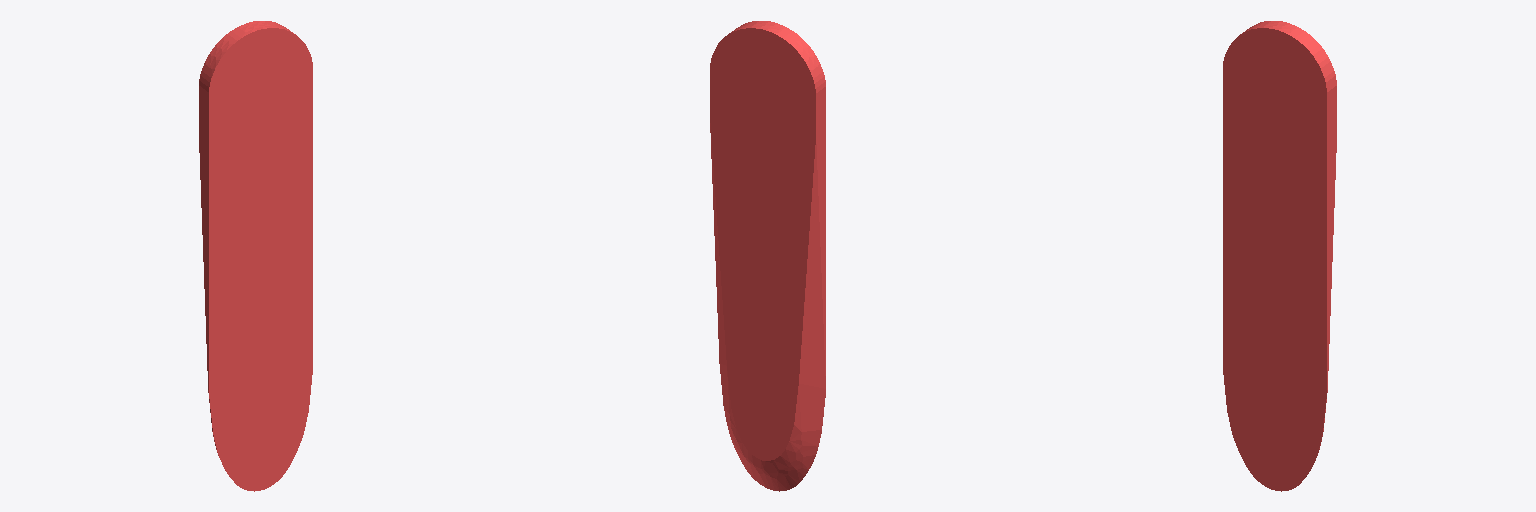
robot.urdf — object.urdf:
<robot name="object.urdf">
  <link name="baseLink">
    <contact>
      <lateral_friction value="0.5" />
      <rolling_friction value="0.0" />
      <contact_cfm value="0.0" />
      <contact_erp value="1.0" />
    </contact>
    <inertial>
      <origin rpy="0 0 0" xyz="0 0 0" />
       <mass value=".1" />
       <inertia ixx="1" ixy="0" ixz="0" iyy="1" iyz="0" izz="1" />
    </inertial>
    <visual>
      <origin rpy="0 0 0" xyz="0 0 0" />
      <geometry>
        <mesh filename="1.obj.obj" scale="1 1 1" />
      </geometry>
       <material name="red">
        <color rgba="1 0.4 0.4 1" />
      </material>
    </visual>
    <collision>
      <origin rpy="0 0 0" xyz="0 0 0" />
      <geometry>
	 	<mesh filename="1.obj.obj" scale="1 1 1" />
      </geometry>
    </collision>
  </link>
</robot>

--- Render facts (derived) ---
Views: 3 orthographic renders of the robot side by side, from view 1: azimuth 30°, elevation 25°; view 2: azimuth 150°, elevation 25°; view 3: azimuth 330°, elevation 25°.
Robot: object.urdf — 1 links, 0 joints (none); root link baseLink; default pose: every joint at zero.
Links seen in each view (by area): view 1: baseLink; view 2: baseLink; view 3: baseLink.
Link boxes in pixels (x1,y1,x2,y2): baseLink: (199, 21, 312, 491); baseLink: (710, 21, 825, 491); baseLink: (1223, 21, 1336, 491).
Size in the robot's own frame: 0.0768 by 0.0128 by 0.3226 metres.
1 mesh visuals loaded from 1 distinct referenced files (1 OBJ).